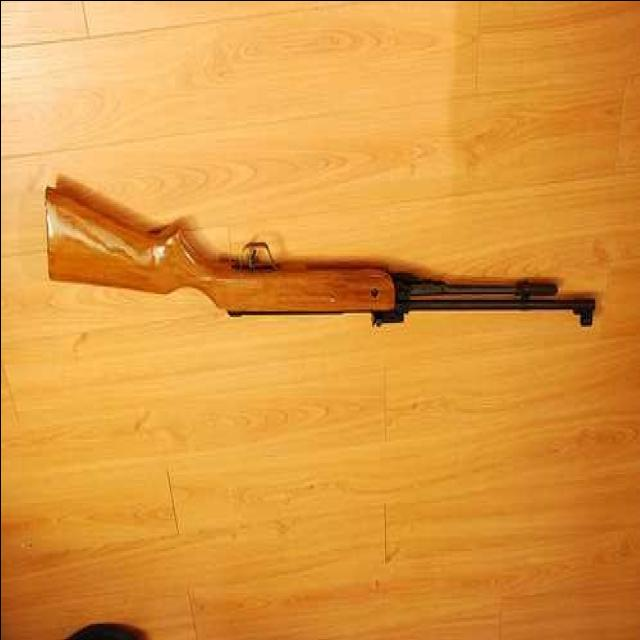heavyweapon: (43, 129, 617, 342)
